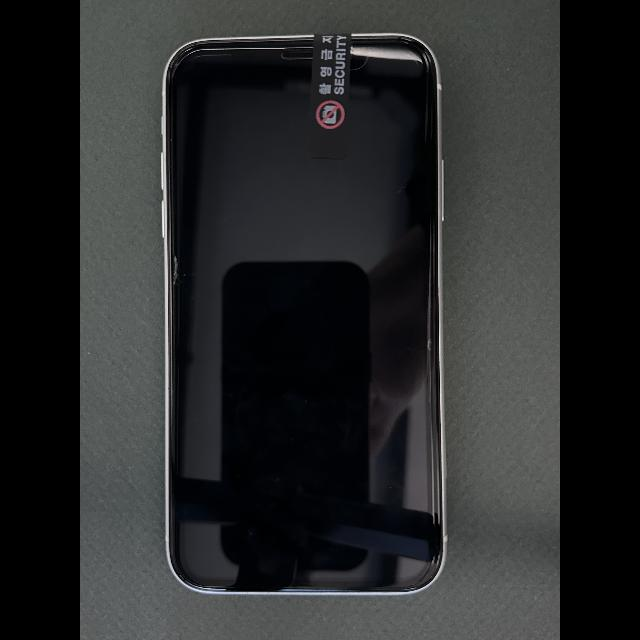phone: (162, 33, 448, 595)
sticker: (310, 33, 352, 159)
